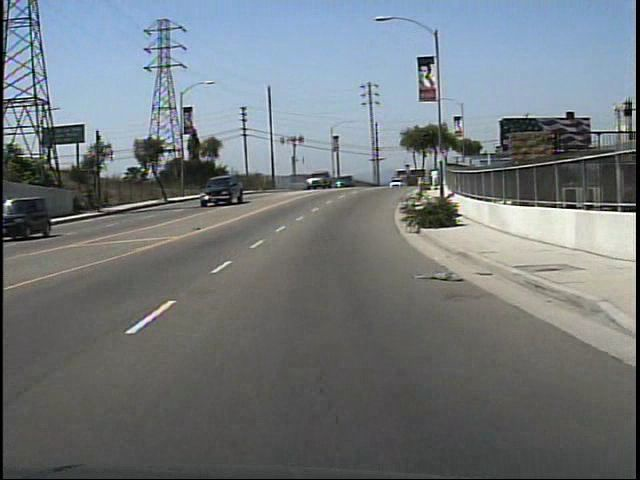person: (429, 166, 441, 194)
